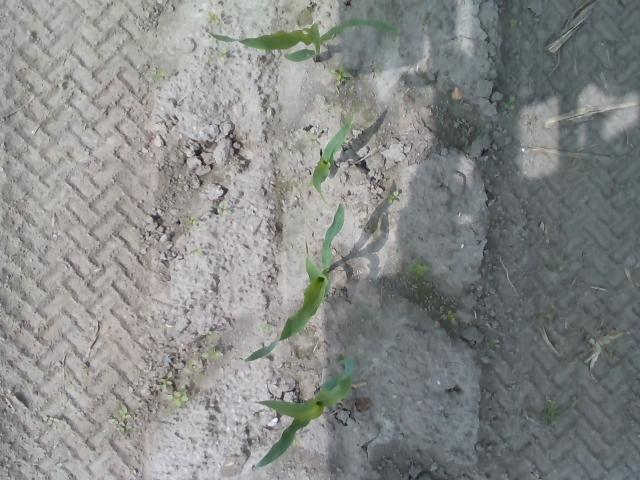Maize: (243, 204, 346, 362), (250, 356, 356, 470), (202, 18, 404, 64), (312, 120, 352, 206)
Weeds: (110, 404, 132, 434), (164, 391, 190, 407), (328, 67, 352, 84), (407, 261, 430, 276), (201, 350, 223, 359), (158, 376, 172, 390), (504, 94, 516, 110), (207, 11, 220, 25), (150, 70, 164, 80), (488, 338, 500, 348), (387, 191, 397, 203), (444, 312, 455, 321), (509, 19, 518, 28), (188, 215, 196, 224)
